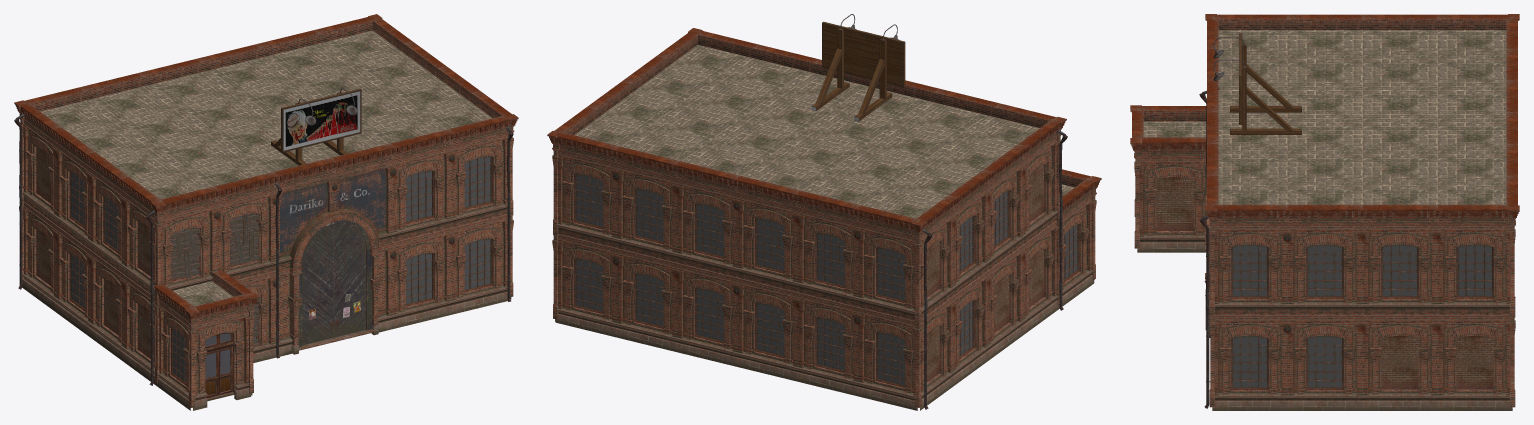
The picture shows the model from 3 angles, left to right: view 1: azimuth 30°, elevation 25°; view 2: azimuth 150°, elevation 25°; view 3: azimuth 270°, elevation 25°; orthographic projection. The views are drawn at different scales.
Visible parts, largest first — view 1: Industrial building Low002_Material #137_0 (×2), Object007_Material #139_0; view 2: Industrial building Low002_Material #137_0 (×2), Object007_Material #139_0; view 3: Industrial building Low002_Material #137_0 (×2), Object007_Material #139_0, Object001_Material #139_0, Object003_Material #139_0.
Part boxes in pixels (x1,y1,x2,y2): Industrial building Low002_Material #137_0 (×2): (14, 14, 518, 410); Object007_Material #139_0: (271, 88, 361, 165); Industrial building Low002_Material #137_0 (×2): (547, 28, 1101, 410); Object007_Material #139_0: (811, 14, 905, 121); Industrial building Low002_Material #137_0 (×2): (1130, 14, 1519, 410); Object007_Material #139_0: (1213, 33, 1301, 134); Object001_Material #139_0: (1199, 216, 1209, 312); Object003_Material #139_0: (1204, 312, 1210, 408).
Bounding box in the file's own units: 14.9 × 9.31 × 12.3.
Materials: 2 (2 with a texture image).
